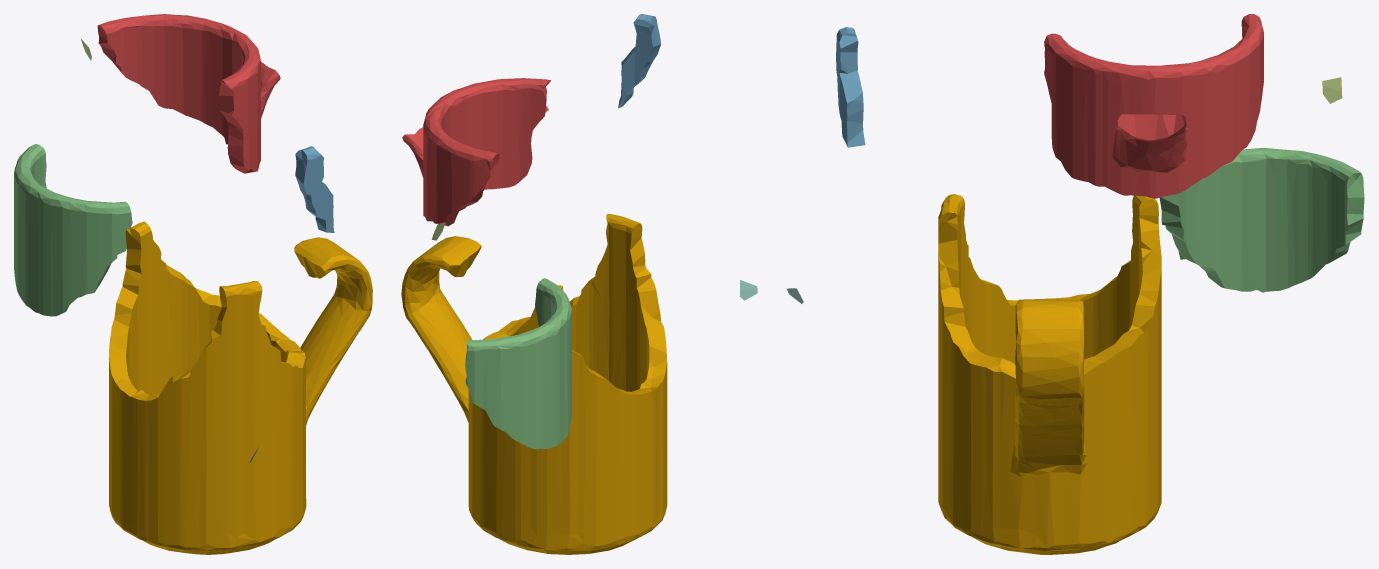
Rendered from mode_6_6pcs_transformed.glb.
3 views of the same model, side by side, from view 1: azimuth 30°, elevation 25°; view 2: azimuth 150°, elevation 25°; view 3: azimuth 270°, elevation 25° (orthographic). The views are drawn at different scales.
Visible parts, largest first — view 1: piece_0.obj, piece_1.obj, piece_3.obj, piece_2.obj; view 2: piece_0.obj, piece_1.obj, piece_3.obj, piece_2.obj; view 3: piece_0.obj, piece_1.obj, piece_3.obj, piece_2.obj.
Boxes of the visible parts, <box> form: piece_0.obj: <box>109,221,372,554</box>; piece_1.obj: <box>97,14,280,173</box>; piece_3.obj: <box>14,144,132,316</box>; piece_2.obj: <box>295,146,334,232</box>; piece_0.obj: <box>401,214,667,554</box>; piece_1.obj: <box>402,78,550,226</box>; piece_3.obj: <box>465,278,571,449</box>; piece_2.obj: <box>618,14,660,108</box>; piece_0.obj: <box>938,194,1161,554</box>; piece_1.obj: <box>1044,14,1263,198</box>; piece_3.obj: <box>1159,148,1364,292</box>; piece_2.obj: <box>836,27,865,147</box>.
Size of the model in its own units: 0.9165 by 1.6 by 1.7.
